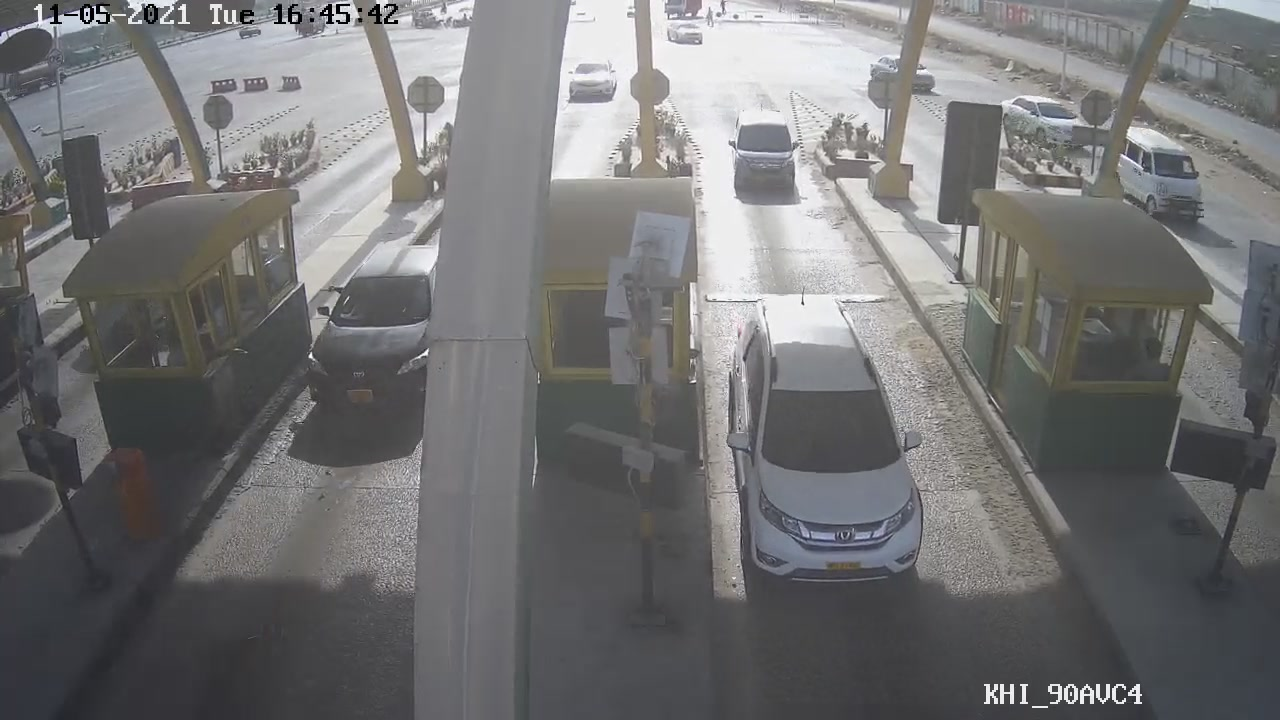F1: (713, 286, 946, 589)
